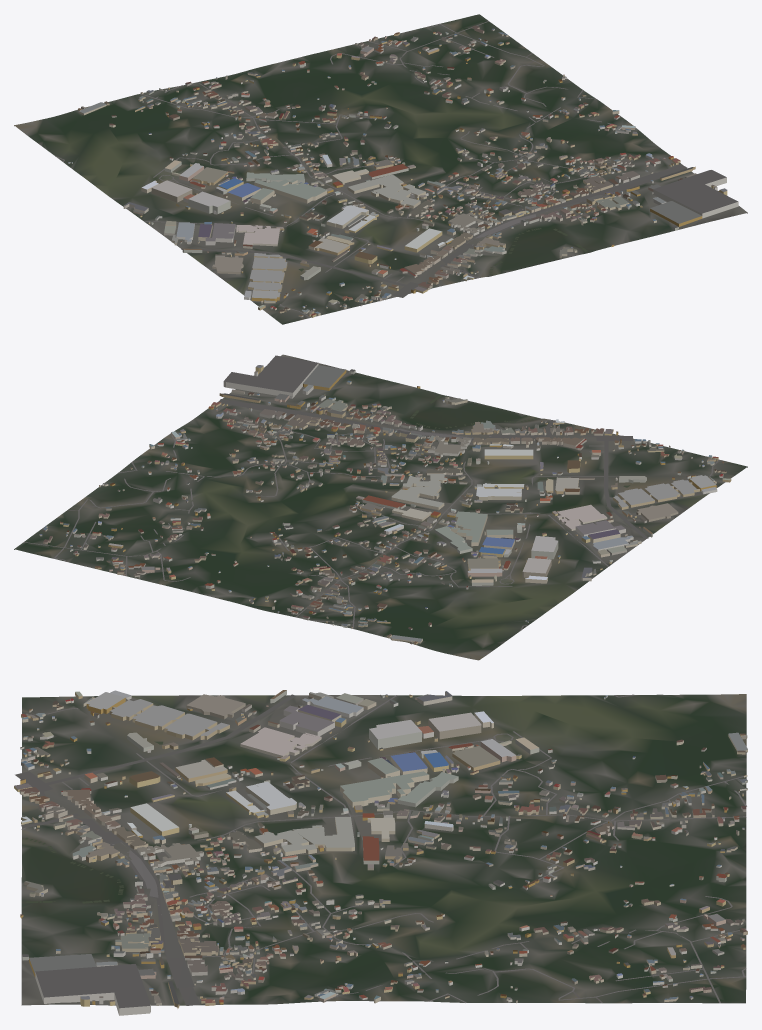
3 views of the same model, one above another, from view 1: azimuth 30°, elevation 25°; view 2: azimuth 150°, elevation 25°; view 3: azimuth 270°, elevation 25° (orthographic). The views are drawn at different scales.
Parts seen in each view (by area): view 1: ground, buildings, roads; view 2: ground, buildings, roads; view 3: ground, buildings, roads.
Boxes of the visible parts, bbox=[...] form: ground: bbox=[14, 14, 747, 324]; buildings: bbox=[68, 25, 738, 317]; roads: bbox=[55, 21, 687, 317]; ground: bbox=[14, 354, 747, 660]; buildings: bbox=[39, 355, 731, 644]; roads: bbox=[23, 399, 719, 630]; ground: bbox=[21, 694, 746, 1005]; buildings: bbox=[14, 690, 747, 1015]; roads: bbox=[15, 694, 746, 1005].
Bounding box in the file's own units: 1458 × 33.92 × 1420.
